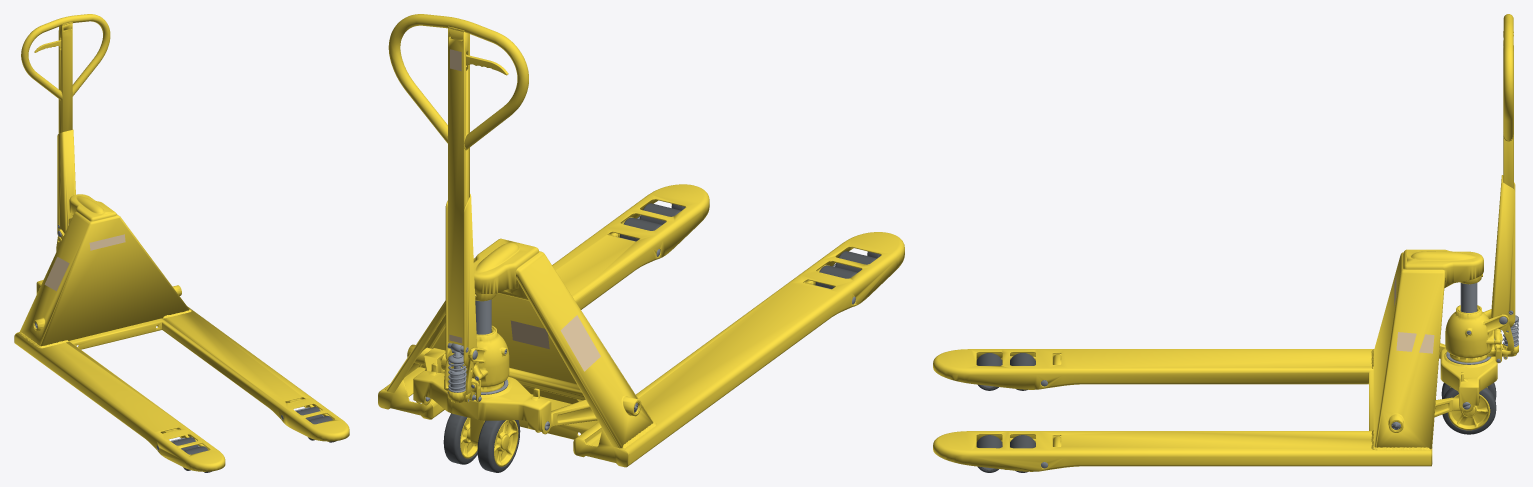
Rendered from palletJack_heavyDuty_a01.glb.
3 renders of one model, left to right at view 1: azimuth 30°, elevation 25°; view 2: azimuth 150°, elevation 25°; view 3: azimuth 270°, elevation 25°, orthographic. The views are drawn at different scales.
Visible parts, largest first — view 1: sm_mainbody_a01_mesh_00.001, sm_handlemain_a01_mesh_00.001, sm_frontwheel1_a01_mesh_00.001; view 2: sm_mainbody_a01_mesh_00.001, sm_handlemain_a01_mesh_00.001, sm_rotatingpart_a01_mesh_00.001, sm_backwheel2_a01_mesh_00.001, sm_backwheel1_a01_mesh_00.001, sm_frontwheel2_a01_mesh_00.001, sm_frontwheel1_a01_mesh_00.001; view 3: sm_mainbody_a01_mesh_00.001, sm_handlemain_a01_mesh_00.001, sm_rotatingpart_a01_mesh_00.001, sm_backwheel1_a01_mesh_00.001, sm_frontwheel2_a01_mesh_00.001, sm_frontwheel1_a01_mesh_00.001.
Boxes of the visible parts, <box> form: sm_mainbody_a01_mesh_00.001: <box>14,194,349,471</box>; sm_handlemain_a01_mesh_00.001: <box>21,14,110,233</box>; sm_frontwheel1_a01_mesh_00.001: <box>171,406,322,450</box>; sm_mainbody_a01_mesh_00.001: <box>378,184,904,467</box>; sm_handlemain_a01_mesh_00.001: <box>388,14,528,367</box>; sm_rotatingpart_a01_mesh_00.001: <box>444,299,509,445</box>; sm_backwheel2_a01_mesh_00.001: <box>477,420,520,472</box>; sm_backwheel1_a01_mesh_00.001: <box>443,413,477,464</box>; sm_frontwheel2_a01_mesh_00.001: <box>639,203,876,272</box>; sm_frontwheel1_a01_mesh_00.001: <box>620,217,857,288</box>; sm_mainbody_a01_mesh_00.001: <box>933,249,1497,471</box>; sm_handlemain_a01_mesh_00.001: <box>1491,14,1515,329</box>; sm_rotatingpart_a01_mesh_00.001: <box>1445,283,1518,364</box>; sm_backwheel1_a01_mesh_00.001: <box>1442,387,1496,434</box>; sm_frontwheel2_a01_mesh_00.001: <box>976,353,1002,472</box>; sm_frontwheel1_a01_mesh_00.001: <box>1010,353,1035,472</box>.
Size of the model in its own units: 0.6804 by 1.2 by 1.6.
